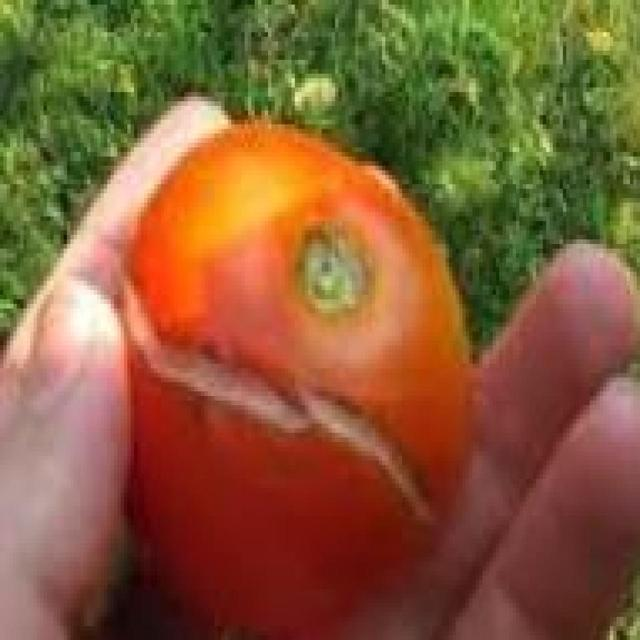Cracking Fruit: (75, 170, 288, 356)
